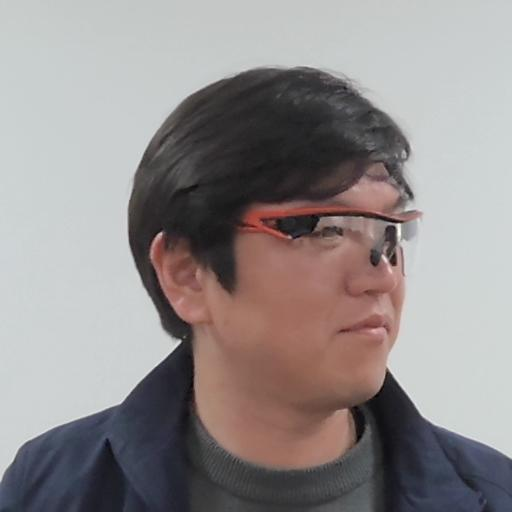glasses: (120, 59, 421, 412)
